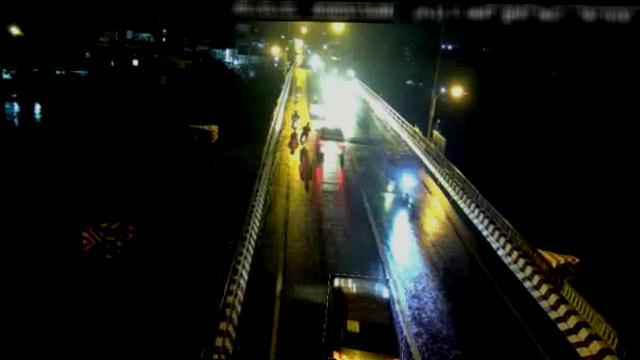Bike: (301, 120, 313, 146), (290, 108, 300, 130), (292, 85, 302, 104)
Car: (324, 275, 407, 360), (316, 122, 350, 158)
